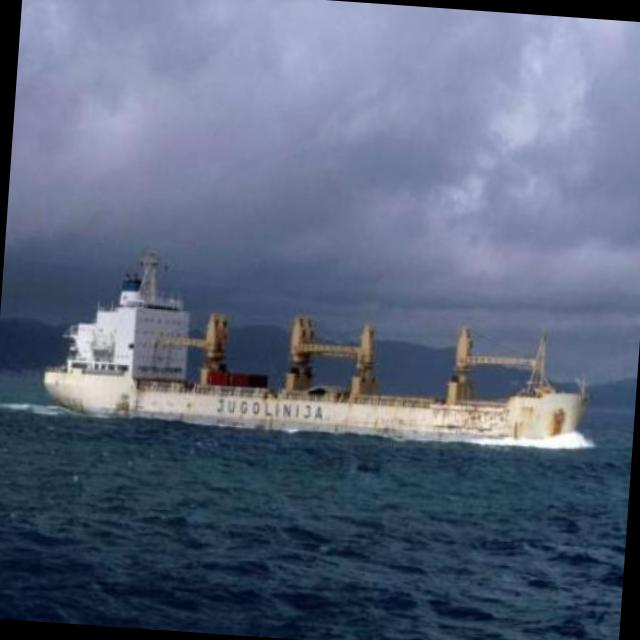boat: (22, 244, 604, 450)
